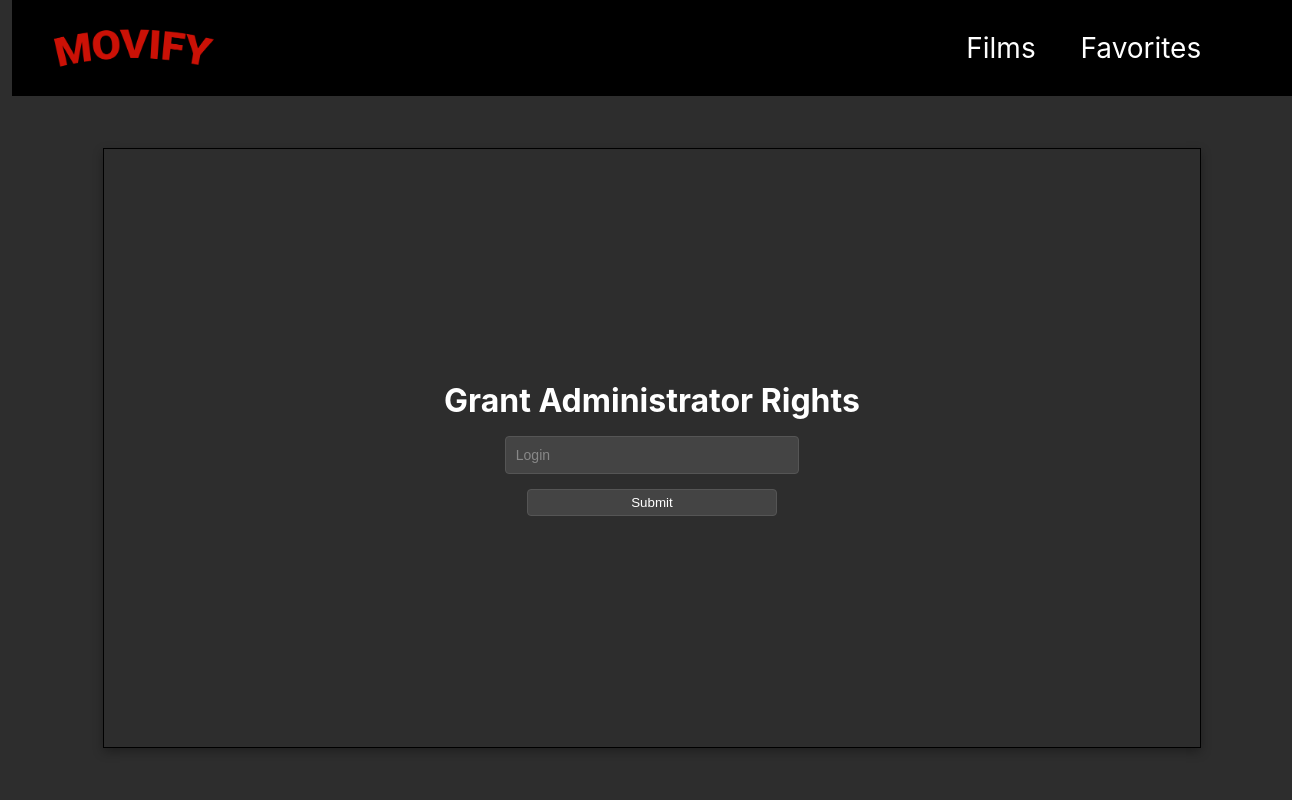
it: Rights Component › shows an error if login is missing
This screenshot has width=1292, height=800.
Click the button "Submit": (652, 502) [527,488,777,516]
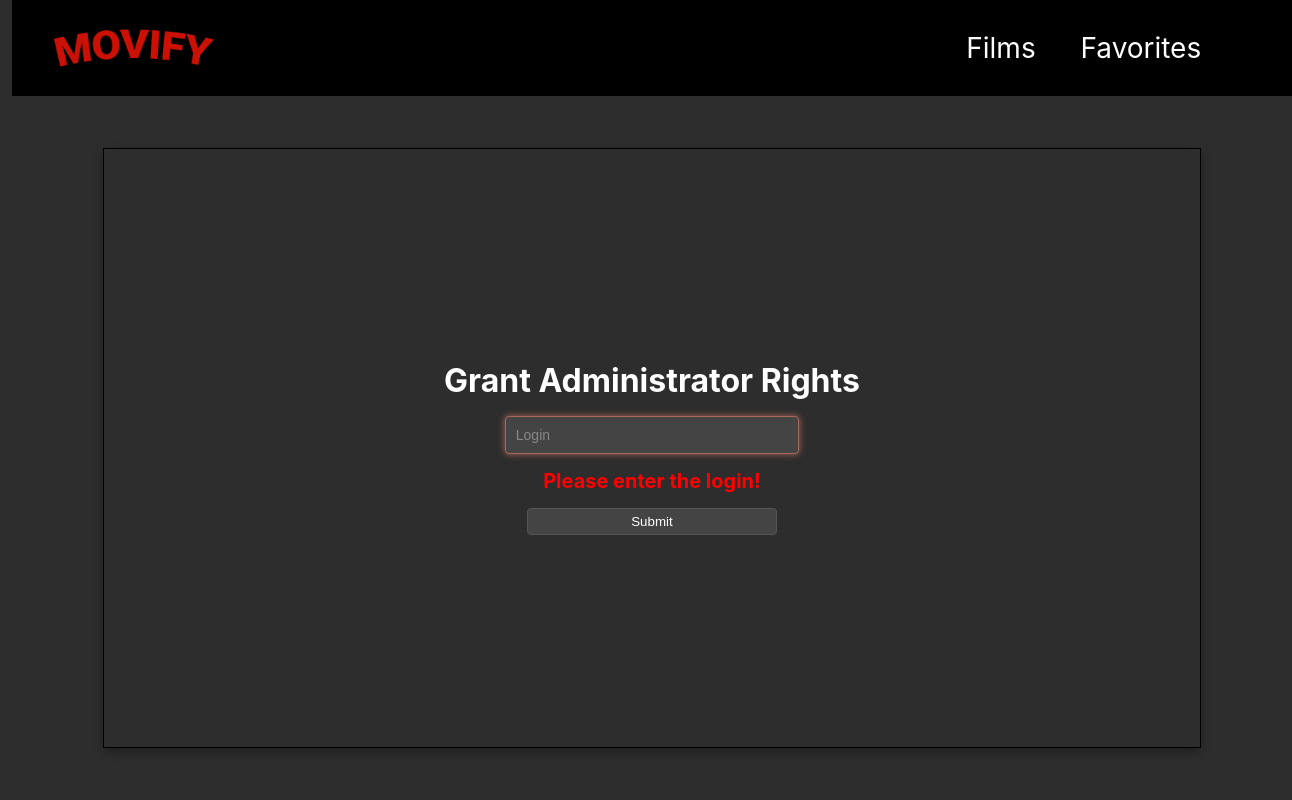
Expected: the text "Please enter the login!" is shown, [543,469,761,493]
